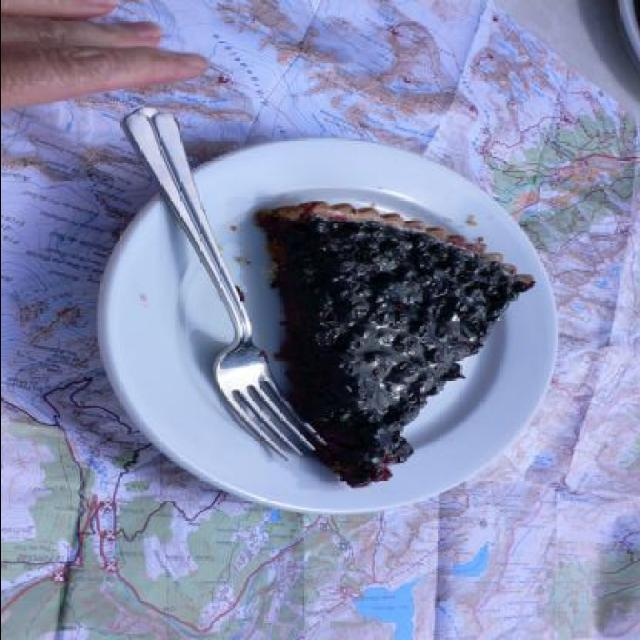Cake: (256, 201, 538, 490)
